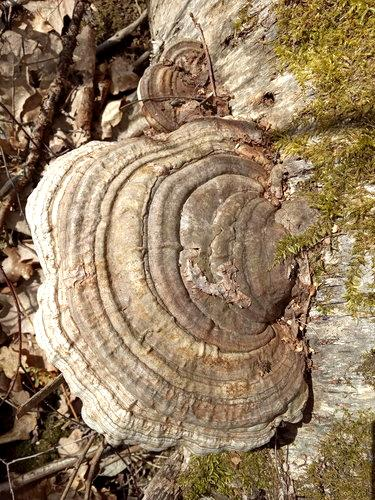Ganoderma - Fruit Body: (28, 126, 311, 453), (137, 44, 226, 118)
